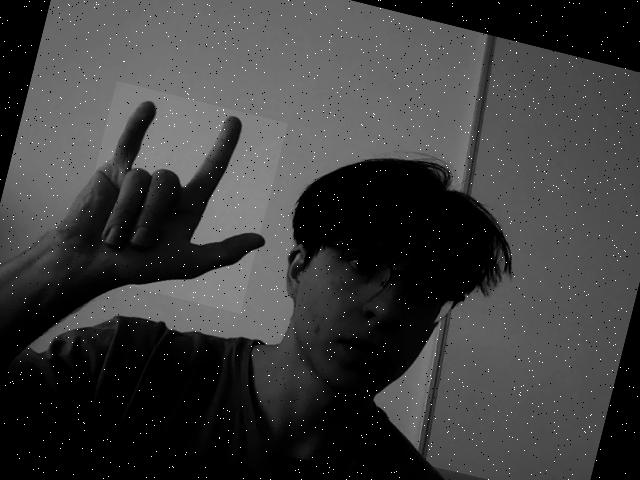I_Love_You: (69, 81, 287, 314)
